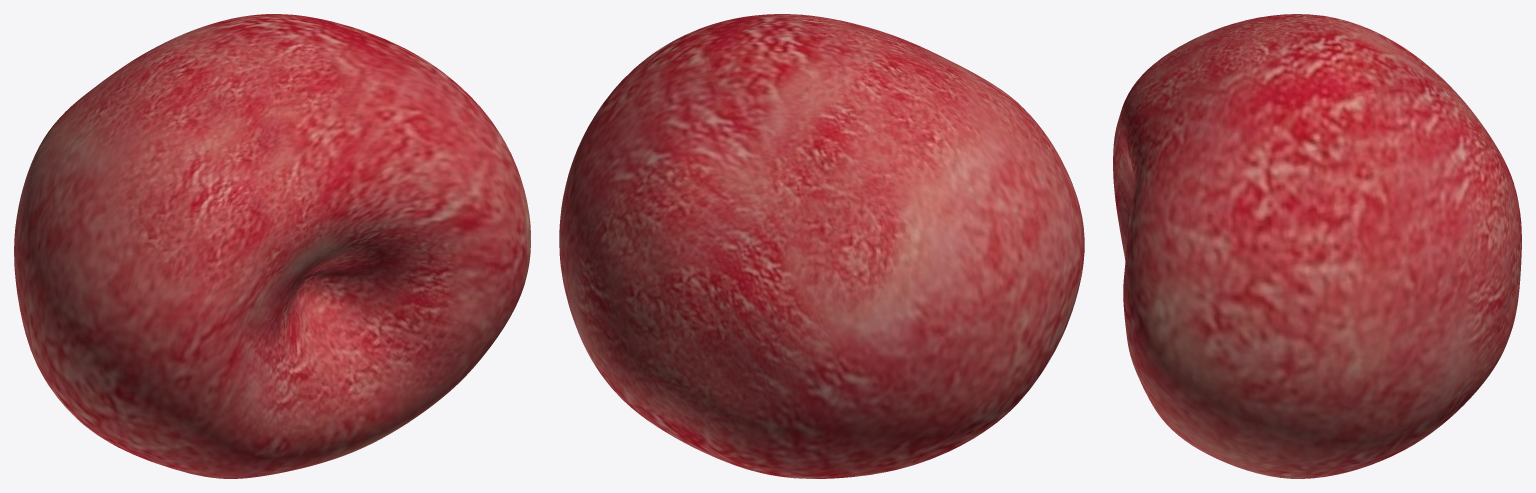
The model's file is CherryFlesh.obj.
3 views of the same model, side by side, from view 1: azimuth 30°, elevation 25°; view 2: azimuth 150°, elevation 25°; view 3: azimuth 270°, elevation 25° (orthographic). The views are drawn at different scales.
Parts seen in each view (by area): view 1: CherryFlesh; view 2: CherryFlesh; view 3: CherryFlesh.
Part boxes in pixels (<box>): CherryFlesh: <box>14,14,530,478</box>; CherryFlesh: <box>559,14,1084,478</box>; CherryFlesh: <box>1113,14,1521,478</box>.
Size of the model in its own units: 0.036 by 0.0315 by 0.0286.
Materials: 1 (1 with a texture image).
